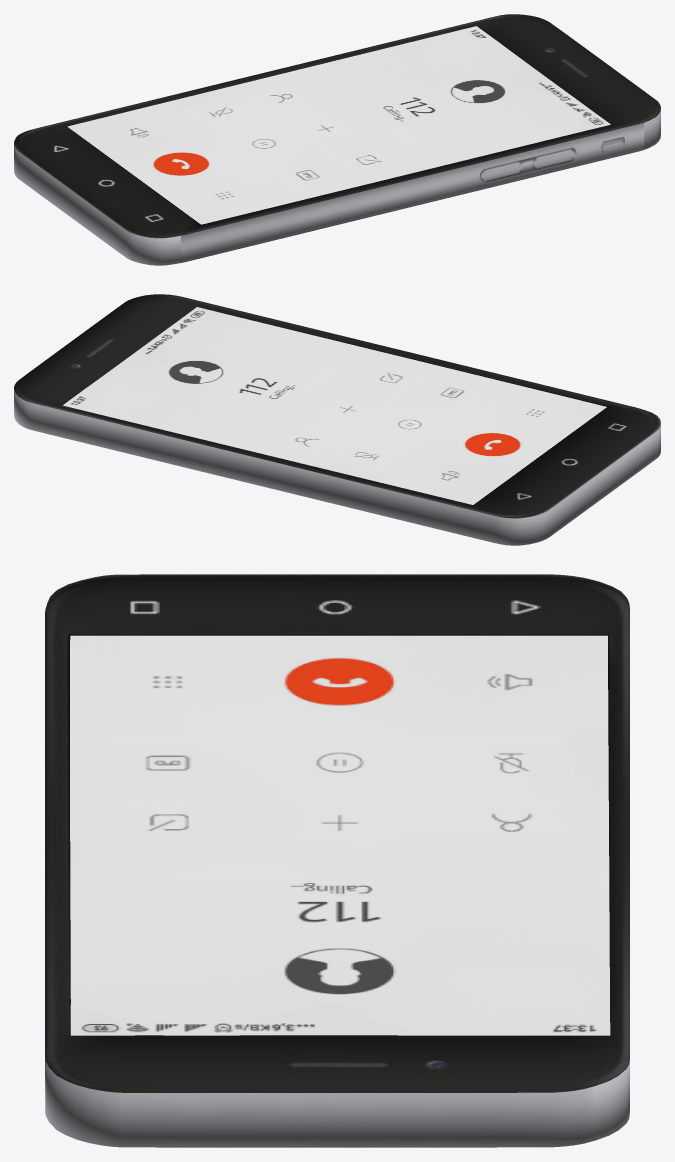
The model's file is Phone112.fbx.
The picture shows the model from 3 angles, top to bottom: view 1: azimuth 30°, elevation 25°; view 2: azimuth 150°, elevation 25°; view 3: azimuth 270°, elevation 25°; orthographic projection. The views are drawn at different scales.
Visible parts, largest first — view 1: Phone112Display5, Phone112; view 2: Phone112Display5, Phone112; view 3: Phone112Display5, Phone112, Phone112Display4.
Part boxes in pixels (x1,y1,x2,y2): Phone112Display5: [68, 26, 610, 224]; Phone112: [14, 14, 660, 265]; Phone112Display5: [63, 307, 606, 504]; Phone112: [14, 294, 660, 545]; Phone112Display5: [70, 636, 610, 1035]; Phone112: [45, 574, 629, 1147]; Phone112Display4: [70, 635, 607, 636].
Bounding box in the file's own units: 0.1754 × 0.00861 × 0.0837.
